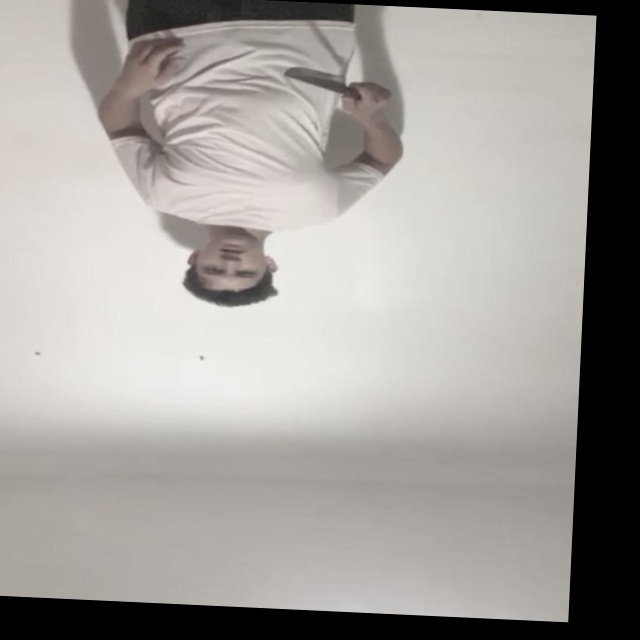Sharp-Object: (279, 63, 348, 97)
